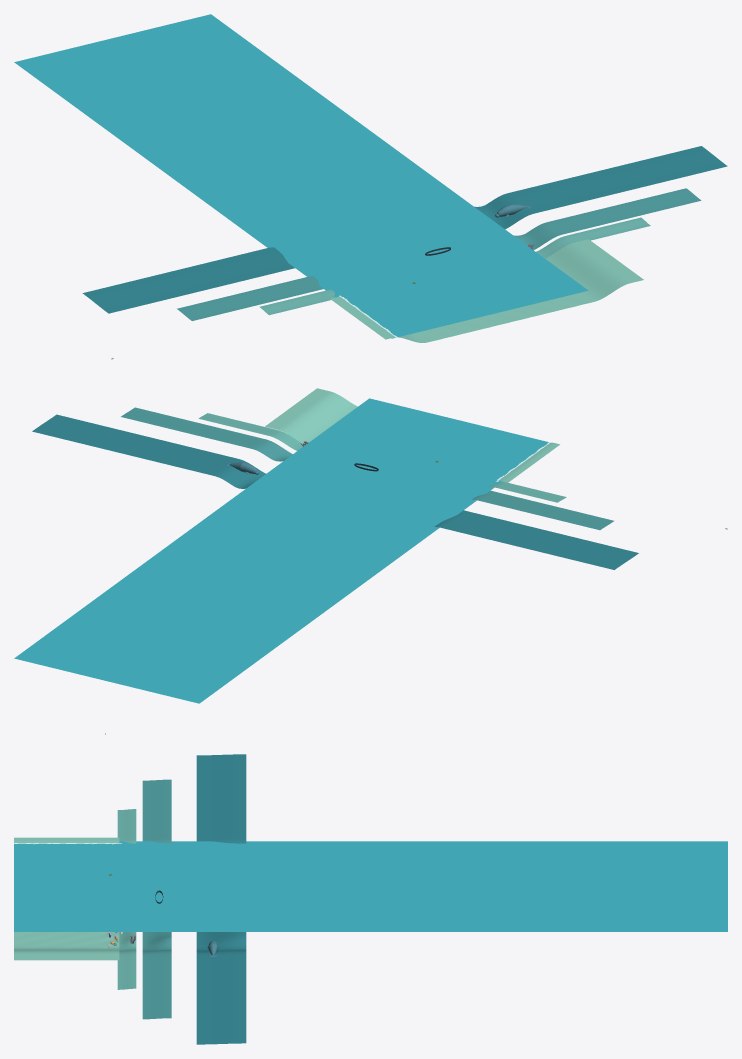
Rendered from aqua.glb.
The picture shows the model from 3 angles, top to bottom: view 1: azimuth 30°, elevation 25°; view 2: azimuth 150°, elevation 25°; view 3: azimuth 270°, elevation 25°; orthographic projection. The views are drawn at different scales.
Visible parts, largest first — view 1: Water, Reef3, Ground, Reef2, Reef1; view 2: Water, Reef3, Reef2, Ground, Reef1; view 3: Water, Reef3, Reef2, Ground, Reef1.
Boxes of the visible parts, bbox=[...] form: Water: bbox=[14, 14, 588, 338]; Reef3: bbox=[82, 146, 727, 313]; Ground: bbox=[330, 239, 643, 342]; Reef2: bbox=[177, 188, 701, 320]; Reef1: bbox=[259, 217, 650, 315]; Water: bbox=[14, 398, 548, 703]; Reef3: bbox=[32, 414, 638, 569]; Reef2: bbox=[121, 407, 613, 530]; Ground: bbox=[265, 388, 559, 482]; Reef1: bbox=[198, 413, 566, 502]; Water: bbox=[14, 841, 727, 931]; Reef3: bbox=[196, 754, 246, 1044]; Reef2: bbox=[142, 779, 171, 1019]; Ground: bbox=[14, 837, 119, 960]; Reef1: bbox=[117, 809, 136, 989].
Bounding box in the file's own units: 175 × 3.95 × 172.
